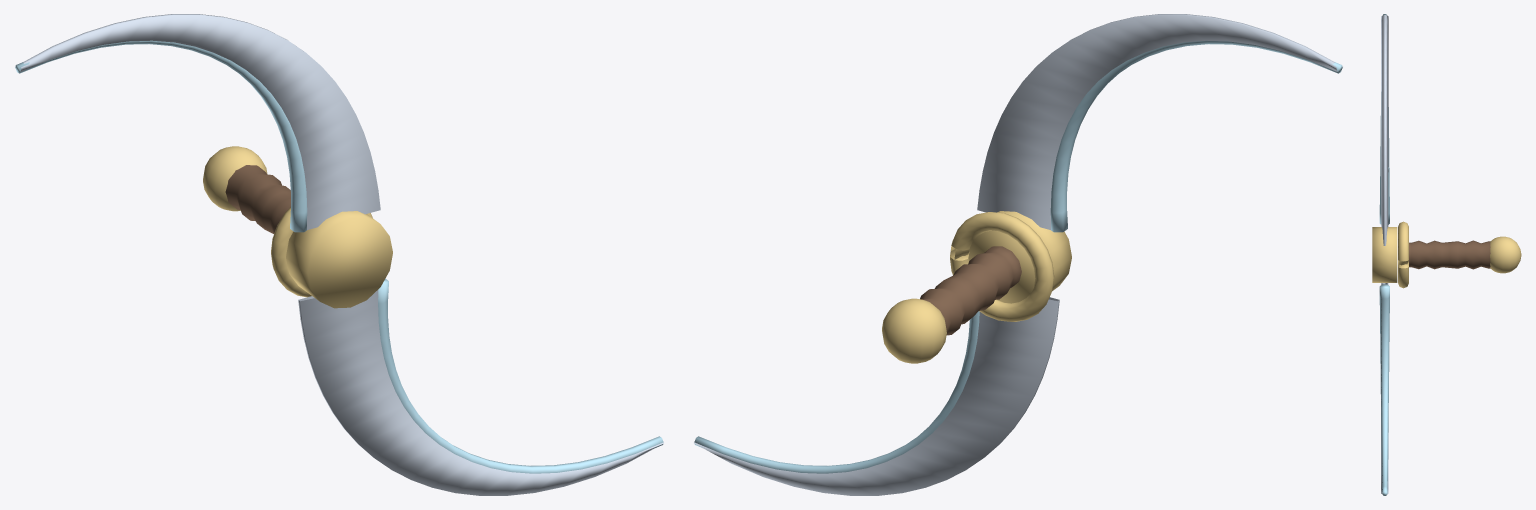
File: SpinBlade_L.fbx
3 renders of one model, left to right at view 1: azimuth 30°, elevation 25°; view 2: azimuth 150°, elevation 25°; view 3: azimuth 270°, elevation 25°, orthographic. The views are drawn at different scales.
Visible parts, largest first — view 1: Rotor_L, Grip_L; view 2: Rotor_L, Grip_L; view 3: Rotor_L, Grip_L.
Part boxes in pixels (left/top/right/bottom): Rotor_L: left=15, top=14, right=663, bottom=495; Grip_L: left=203, top=146, right=372, bottom=297; Rotor_L: left=694, top=14, right=1342, bottom=495; Grip_L: left=882, top=212, right=1054, bottom=363; Rotor_L: left=1372, top=14, right=1397, bottom=495; Grip_L: left=1398, top=221, right=1521, bottom=288.
Bounding box in the file's own units: 0.6795 × 0.5753 × 0.24.
